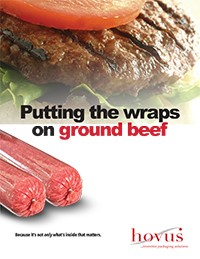ground_beef: (1, 150, 85, 212)
